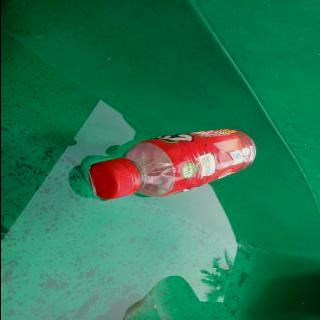bottle: (87, 127, 258, 201)
